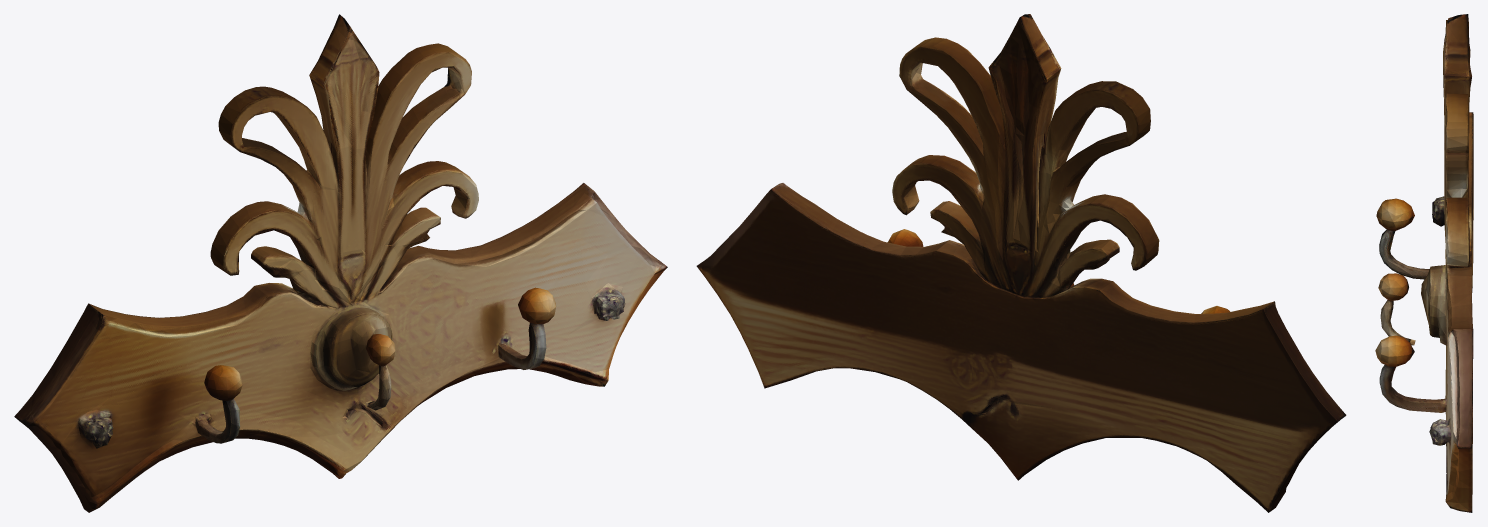
Rendered from wooden-coat-hooks-rustic.jpeg.glb.
3 views of the same model, side by side, from view 1: azimuth 30°, elevation 25°; view 2: azimuth 150°, elevation 25°; view 3: azimuth 270°, elevation 25° (orthographic). The views are drawn at different scales.
Visible parts, largest first — view 1: world; view 2: world; view 3: world.
Part boxes in pixels (box(x1,y1,x2,y2)): world: box(14, 14, 667, 512); world: box(696, 14, 1346, 512); world: box(1375, 14, 1473, 512).
Size of the model in its own units: 1 by 0.6899 by 0.1476.
1 material, 1 textured.
